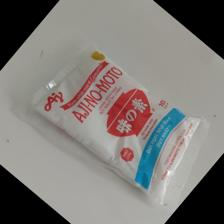Ajinomoto: (33, 47, 200, 203)
